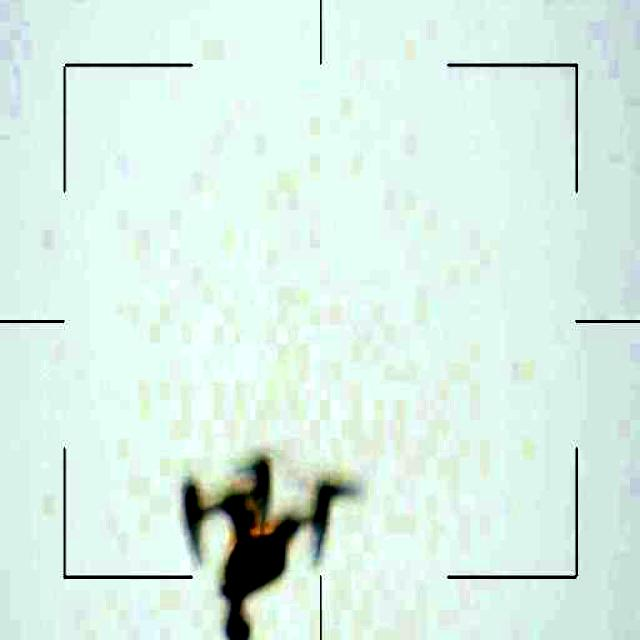bird: (176, 456, 359, 640)
